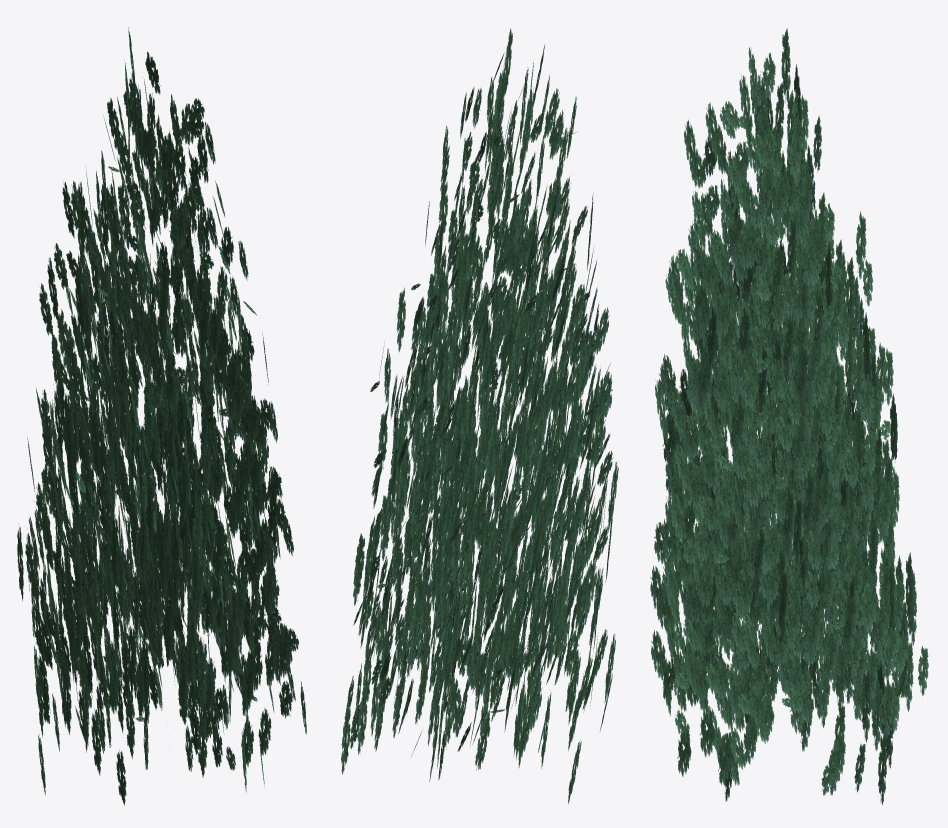
File: fir.glb
3 renders of one model, left to right at view 1: azimuth 30°, elevation 25°; view 2: azimuth 150°, elevation 25°; view 3: azimuth 270°, elevation 25°, orthographic. The views are drawn at different scales.
Parts seen in each view (by area): view 1: Icosphere.003; view 2: Icosphere.003; view 3: Icosphere.003.
Boxes of the visible parts, x1,y1,x2,y2 form: Icosphere.003: (17,27,306,805); Icosphere.003: (341,28,618,804); Icosphere.003: (650,28,928,804).
Size of the model in its own units: 0.9957 by 3 by 1.03.
Materials: 1 (1 with a texture image).
